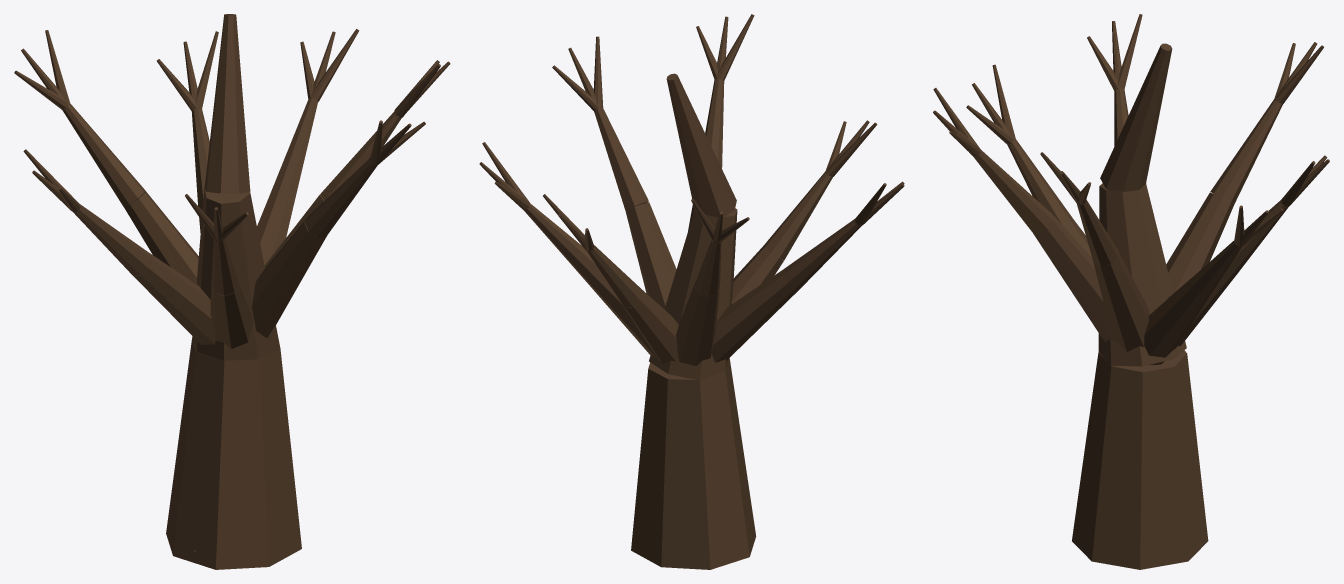
The model's file is apple_mature_winter_3.glb.
3 renders of one model, left to right at view 1: azimuth 30°, elevation 25°; view 2: azimuth 150°, elevation 25°; view 3: azimuth 270°, elevation 25°, orthographic. The views are drawn at different scales.
Parts seen in each view (by area): view 1: apple_mature_winter_3; view 2: apple_mature_winter_3; view 3: apple_mature_winter_3.
Boxes of the visible parts, box(x1,y1,x2,y2) form: apple_mature_winter_3: box(14, 14, 450, 569); apple_mature_winter_3: box(479, 14, 904, 569); apple_mature_winter_3: box(933, 14, 1329, 569).
Bounding box in the file's own units: 9.06 × 11.32 × 8.14.
